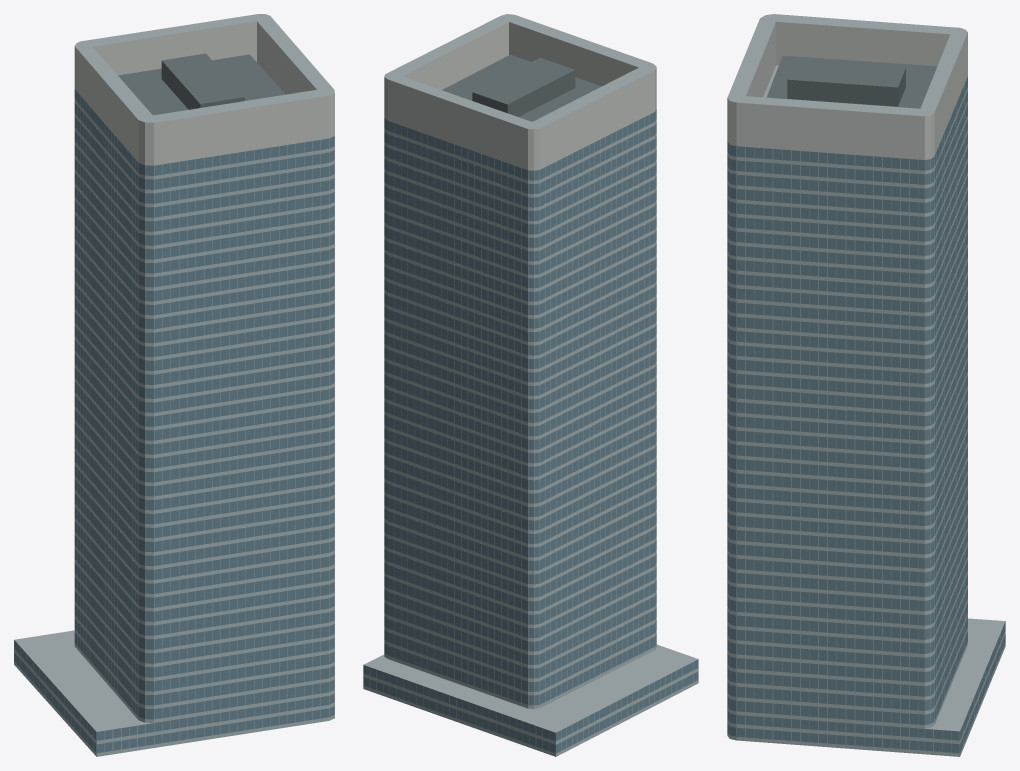
File: 8-canada-square-near.glb
The picture shows the model from 3 angles, left to right: view 1: azimuth 30°, elevation 25°; view 2: azimuth 150°, elevation 25°; view 3: azimuth 270°, elevation 25°; orthographic projection. The views are drawn at different scales.
Parts seen in each view (by area): view 1: 8-canada-square-0-glass, 8-canada-square-0-frame, 8-canada-square-0-crown, 8-canada-square-0-roof, 8-canada-square-0-plant; view 2: 8-canada-square-0-glass, 8-canada-square-0-frame, 8-canada-square-0-crown, 8-canada-square-0-roof, 8-canada-square-0-plant; view 3: 8-canada-square-0-glass, 8-canada-square-0-frame, 8-canada-square-0-crown, 8-canada-square-0-roof, 8-canada-square-0-plant.
Part boxes in pixels (<box>): 8-canada-square-0-glass: <box>14,89,334,753</box>; 8-canada-square-0-frame: <box>14,93,334,756</box>; 8-canada-square-0-crown: <box>74,21,334,165</box>; 8-canada-square-0-roof: <box>14,14,334,731</box>; 8-canada-square-0-plant: <box>118,53,285,115</box>; 8-canada-square-0-glass: <box>363,109,698,753</box>; 8-canada-square-0-frame: <box>363,112,698,756</box>; 8-canada-square-0-crown: <box>384,22,656,170</box>; 8-canada-square-0-roof: <box>363,14,698,732</box>; 8-canada-square-0-plant: <box>442,54,601,121</box>; 8-canada-square-0-glass: <box>727,76,1005,753</box>; 8-canada-square-0-frame: <box>727,83,1005,756</box>; 8-canada-square-0-crown: <box>727,21,967,159</box>; 8-canada-square-0-roof: <box>727,14,1005,731</box>; 8-canada-square-0-plant: <box>766,55,937,108</box>.
Size of the model in its own units: 85.16 by 200 by 79.03.
